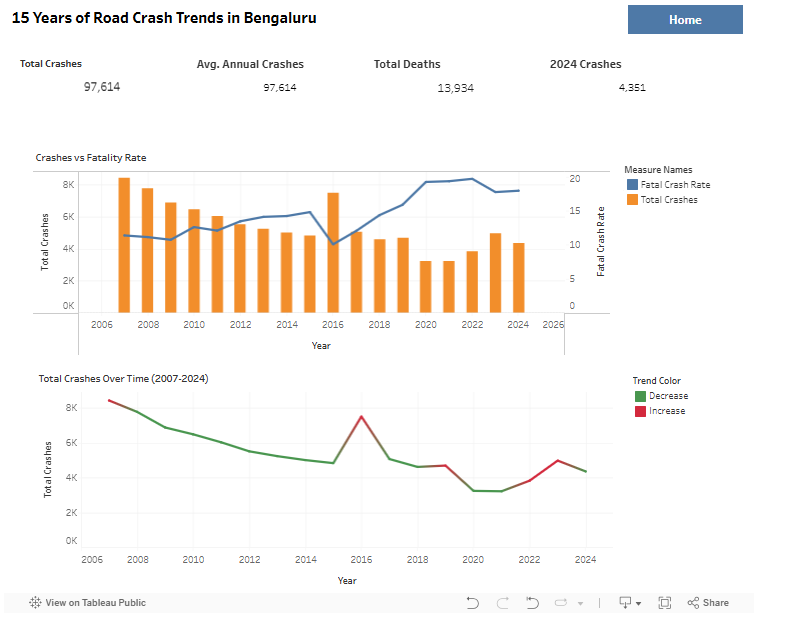

What the dashboard file says about the page in this screenshot:
{"tool":"tableau","page":{"name":"1.15 Years Trend dashboard","canvas":[1000,800],"ordinal":0},"visuals":[{"type":"title","box":[6,3,815,58]},{"type":"dashboard-object","box":[832,16,153,38]},{"type":"worksheet","title":"1.Total Crashes (All Years)","mark":"Automatic","box":[13,74,236,123]},{"type":"worksheet","title":"1.Avg. Annual Crashes","mark":"Automatic","box":[249,74,236,123]},{"type":"worksheet","title":"1.Total Deaths","mark":"Automatic","box":[485,74,235,123]},{"type":"worksheet","title":"1.2024 Crashes","mark":"Automatic","box":[720,74,235,123]},{"type":"worksheet","title":"1.Crashes vs Fatality Rate","mark":"Bar","rows":["TOTAL_CRASHES","FATAL_CRASH_RATE"],"cols":["YEAR"],"box":[38,203,771,281]},{"type":"legend","title":"1.Crashes vs Fatality Rate","param":"[federated.0930ly11d2djk218tjowe017q0ua].[:Measure Names]","box":[827,226,153,104]},{"type":"worksheet","title":"1.Total Crashes Over Time (2007-2024)","mark":"Automatic","rows":["TOTAL_CRASHES"],"cols":["YEAR"],"box":[42,498,770,298]},{"type":"legend","title":"1.Total Crashes Over Time (2007-2024)","param":"[federated.0930ly11d2djk218tjowe017q0ua].[usr:Calculation_1809884168511598593:nk","box":[838,508,127,130]}]}

Visuals, with their boxes on the page's 1000x800 design canvas (x1, y1, x2, y2). These are canvas units, not pixel positions in the 789x625 screenshot, which may show the page scaled, cropped or inside an application window:
title: 6:3:821:61
dashboard-object: 832:16:985:54
"1.Total Crashes (All Years)" worksheet: 13:74:249:197
"1.Avg. Annual Crashes" worksheet: 249:74:485:197
"1.Total Deaths" worksheet: 485:74:720:197
"1.2024 Crashes" worksheet: 720:74:955:197
"1.Crashes vs Fatality Rate" worksheet (Bar marks): 38:203:809:484
"1.Crashes vs Fatality Rate" legend: 827:226:980:330
"1.Total Crashes Over Time (2007-2024)" worksheet: 42:498:812:796
"1.Total Crashes Over Time (2007-2024)" legend: 838:508:965:638
